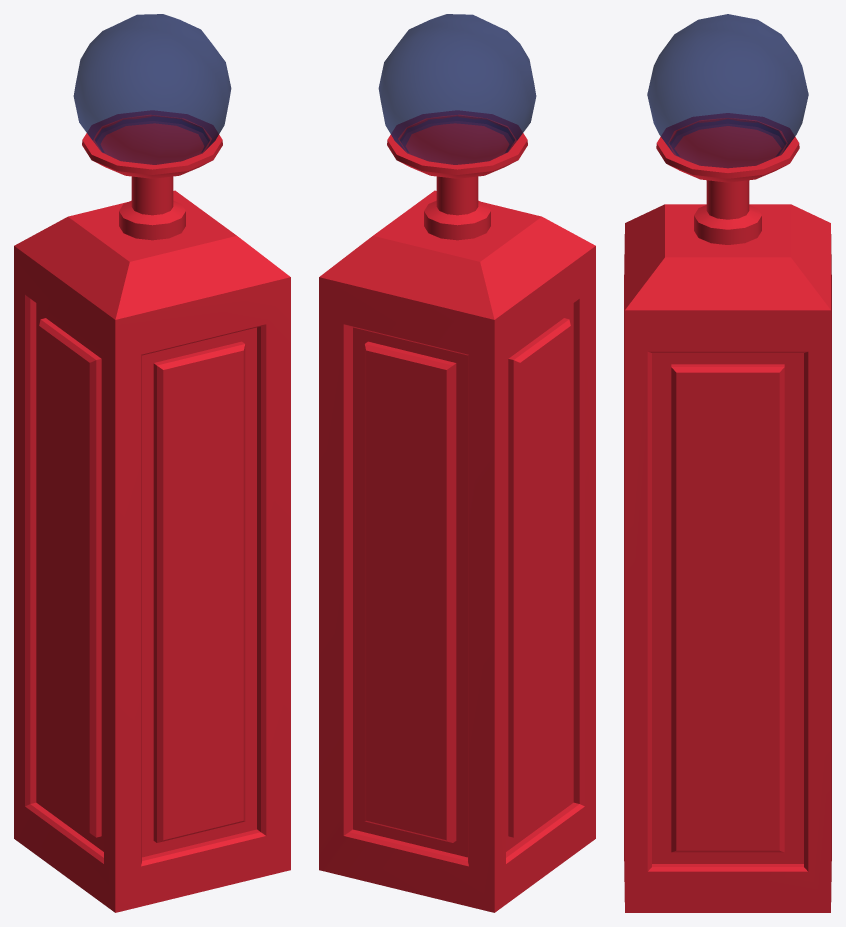
The model's file is Corrimao.Luminaria.fbx.
3 renders of one model, left to right at view 1: azimuth 30°, elevation 25°; view 2: azimuth 150°, elevation 25°; view 3: azimuth 270°, elevation 25°, orthographic.
Parts seen in each view (by area): view 1: Corrimao.Luminaria; view 2: Corrimao.Luminaria; view 3: Corrimao.Luminaria.
Part boxes in pixels (bbox=[...]): Corrimao.Luminaria: bbox=[14, 14, 290, 912]; Corrimao.Luminaria: bbox=[319, 14, 595, 912]; Corrimao.Luminaria: bbox=[624, 14, 831, 912].
Size of the model in its own units: 45.18 by 205 by 45.42.
